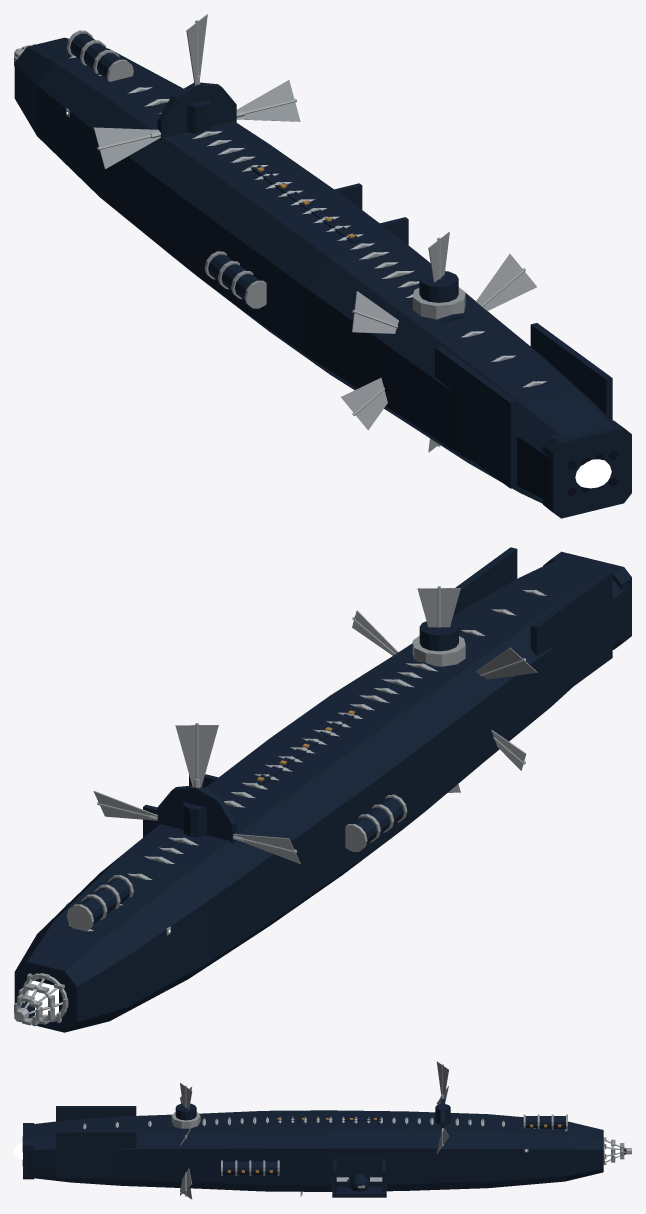
3 views of the same model, one above another, from view 1: azimuth 30°, elevation 25°; view 2: azimuth 150°, elevation 25°; view 3: azimuth 270°, elevation 25° (orthographic). The views are drawn at different scales.
Parts seen in each view (by area): view 1: RIMWARD_HULL, RIMWARD_ENGINE_GLOW; view 2: RIMWARD_HULL; view 3: RIMWARD_HULL.
Boxes of the visible parts, x1,y1,x2,y2 form: RIMWARD_HULL: (14, 14, 631, 518); RIMWARD_ENGINE_GLOW: (575, 459, 611, 488); RIMWARD_HULL: (14, 547, 631, 1032); RIMWARD_HULL: (22, 1061, 631, 1199).
Bounding box in the file's own units: 6.56 × 7.23 × 30.8.
